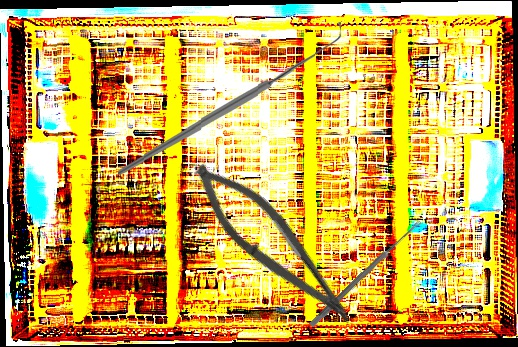Hook Surgical: (115, 22, 344, 177)
Micro Scissor: (177, 151, 373, 336)
Surgical Spoon: (308, 218, 423, 329)
